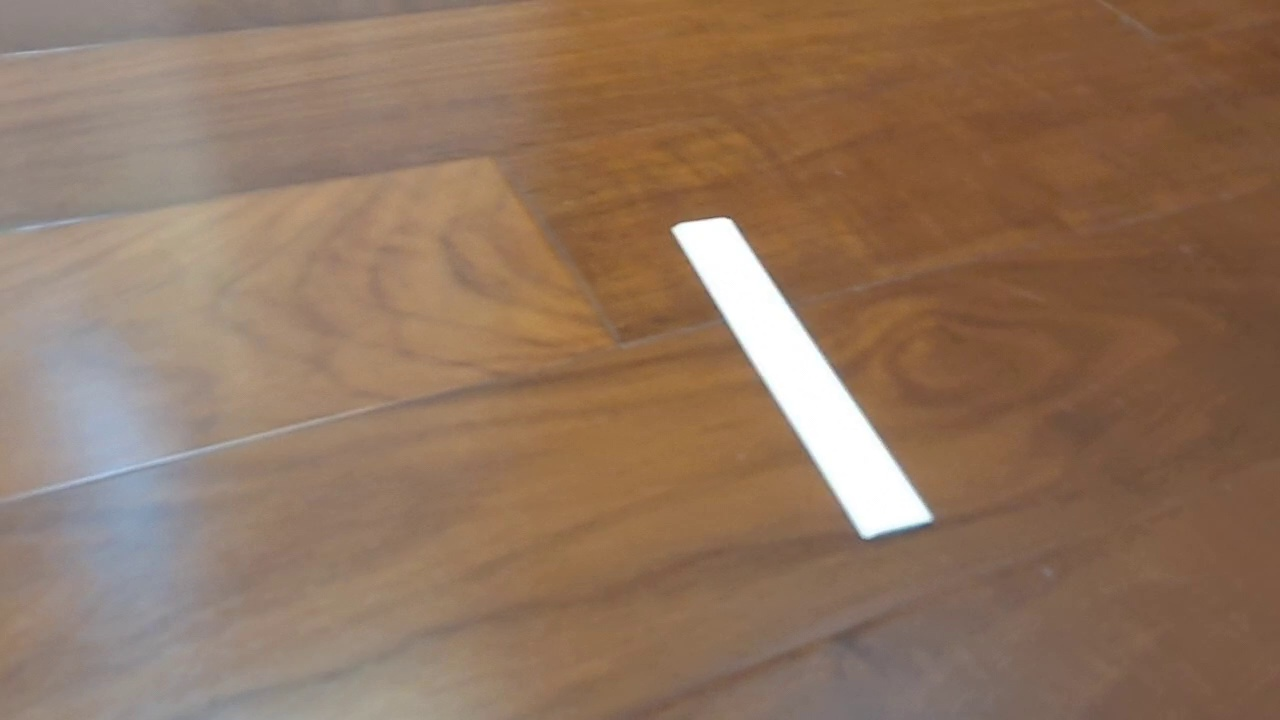ruler: (668, 214, 936, 544)
